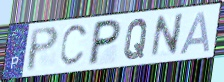A: (177, 10, 212, 56)
C: (58, 23, 90, 69)
N: (148, 11, 186, 60)
P: (85, 18, 124, 68), (25, 25, 61, 73)
Q: (122, 17, 150, 62)
